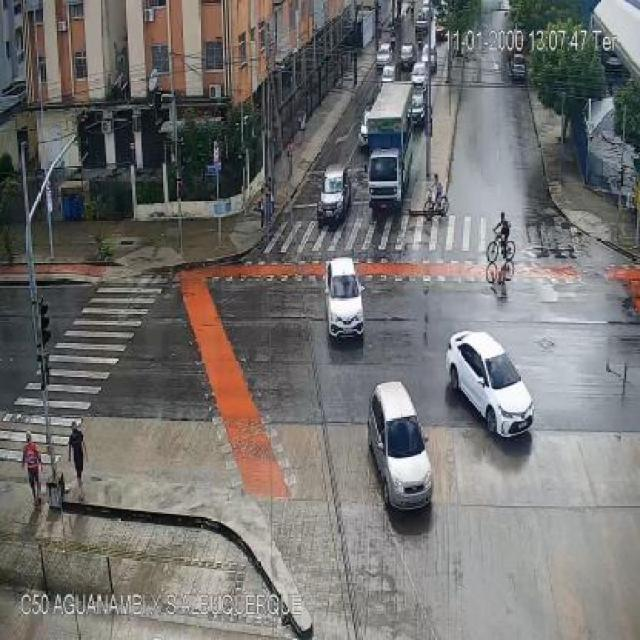Car: (444, 331, 534, 437), (368, 380, 436, 512), (324, 257, 366, 340), (318, 163, 352, 222), (410, 62, 430, 93), (410, 93, 428, 124), (421, 42, 439, 72), (400, 40, 416, 69), (380, 65, 400, 86), (375, 44, 393, 66)
Cycle: (484, 229, 516, 264), (422, 187, 451, 221)
Truck: (364, 81, 416, 211)
